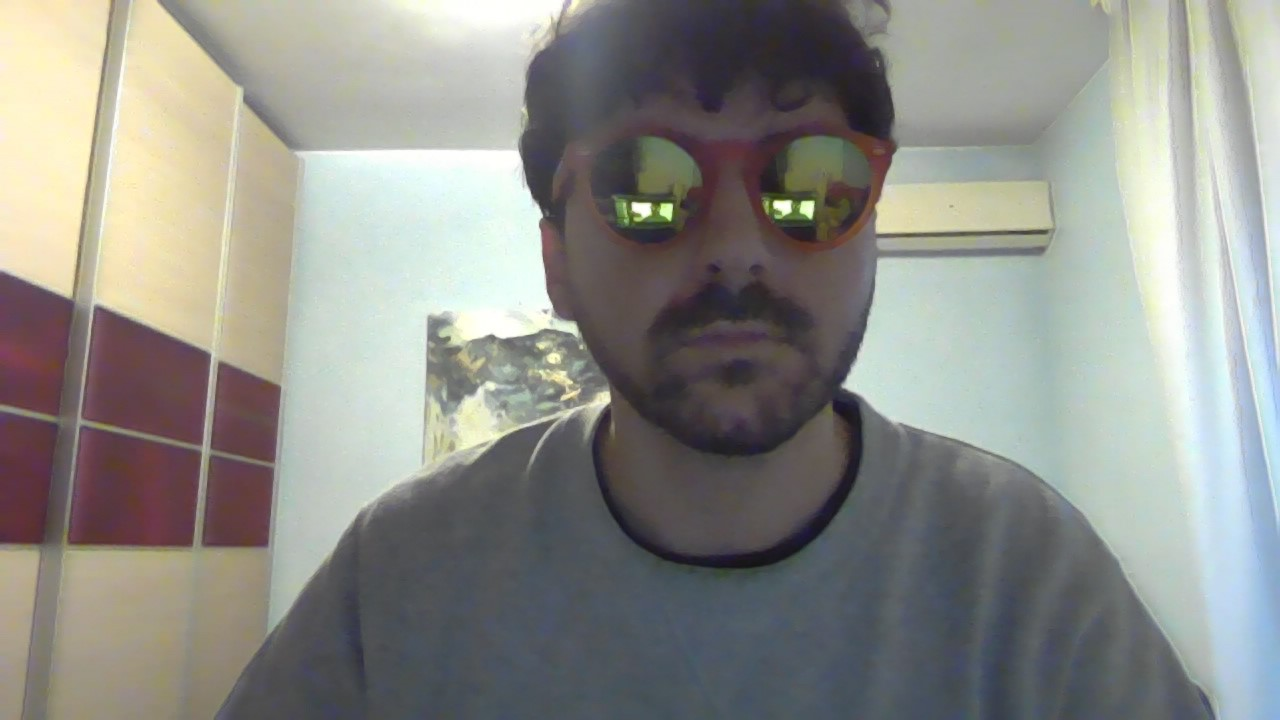Glasses: (519, 123, 928, 258)
